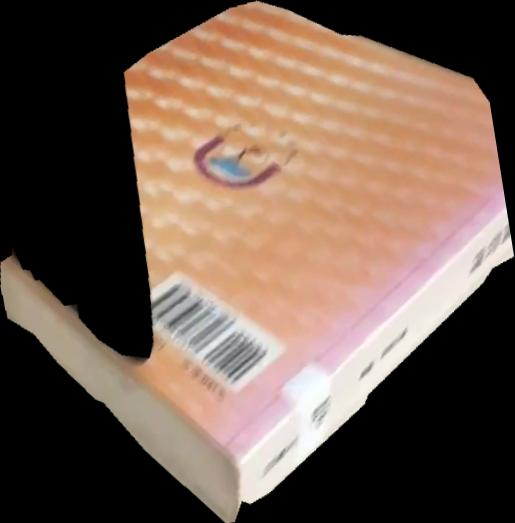flat: (1, 1, 515, 523)
